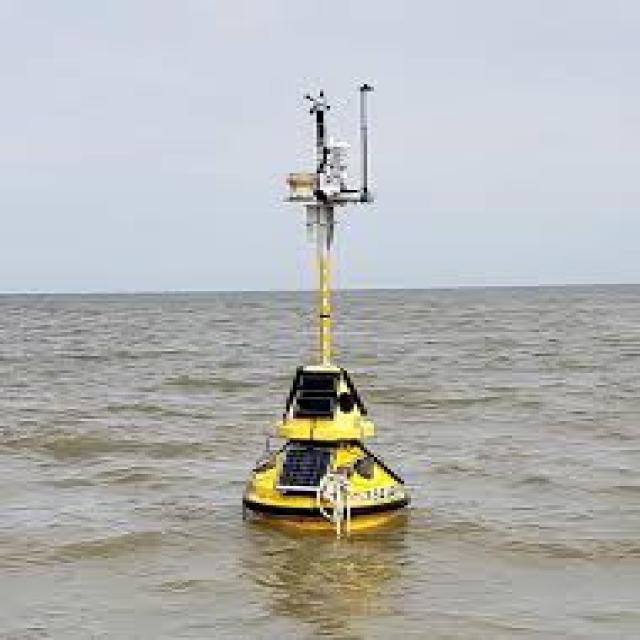2.5 sepcial mark: (223, 70, 439, 550)
